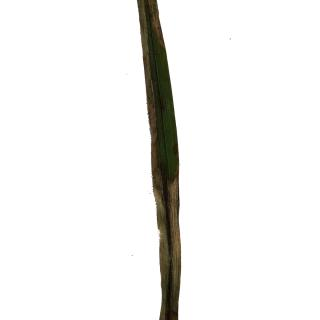Hawar-Daun: (159, 169, 183, 317), (136, 0, 166, 73)
